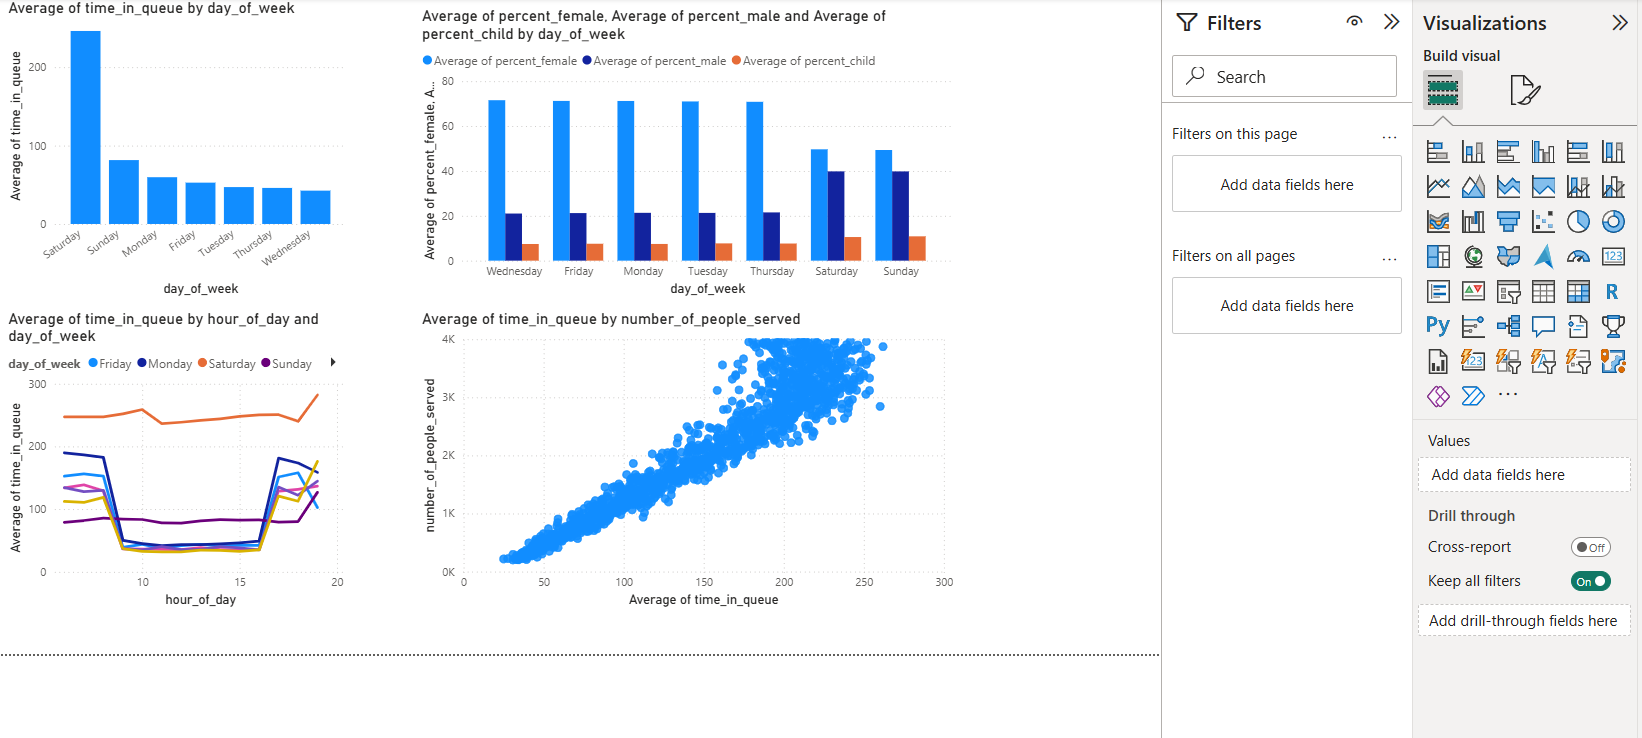

The dashboard page shown, as its layout file describes it:
{"tool":"powerbi","page":{"name":"queue","canvas":[1280,720],"ordinal":2},"visuals":[{"type":"clusteredColumnChart","fields":{"Y":["Avg(Md_summary.time_in_queue)"],"Category":["Md_summary.day_of_week"]},"box":[9.6,0,381.5,332.1],"z":0},{"type":"lineChart","fields":{"Y":["Avg(Md_summary.time_in_queue)"],"Category":["Md_summary.hour_of_day"],"Series":["Md_summary.day_of_week"]},"box":[10,342,381,332],"z":1000},{"type":"clusteredColumnChart","fields":{"Category":["Md_summary.day_of_week"],"Y":["Avg(Md_summary.percent_female)","Avg(Md_summary.percent_male)","Avg(Md_summary.percent_child)"]},"box":[463.8,9.6,592.8,322.5],"z":2000},{"type":"scatterChart","fields":{"X":["Avg(Md_summary.time_in_queue)"],"Y":["Md_summary.number_of_people_served"]},"box":[464,342,593,332],"z":3000}]}

Visuals, with their boxes on the page's 1280x720 design canvas (x1, y1, x2, y2). These are canvas units, not pixel positions in the 1642x738 screenshot, which may show the page scaled, cropped or inside an application window:
clusteredColumnChart - Avg(Md_summary.time_in_queue) x Md_summary.day_of_week: crop(10, 0, 391, 332)
lineChart - Avg(Md_summary.time_in_queue) x Md_summary.hour_of_day: crop(10, 342, 391, 674)
clusteredColumnChart - Md_summary.day_of_week x Avg(Md_summary.percent_female): crop(464, 10, 1057, 332)
scatterChart - Avg(Md_summary.time_in_queue) x Md_summary.number_of_people_served: crop(464, 342, 1057, 674)
